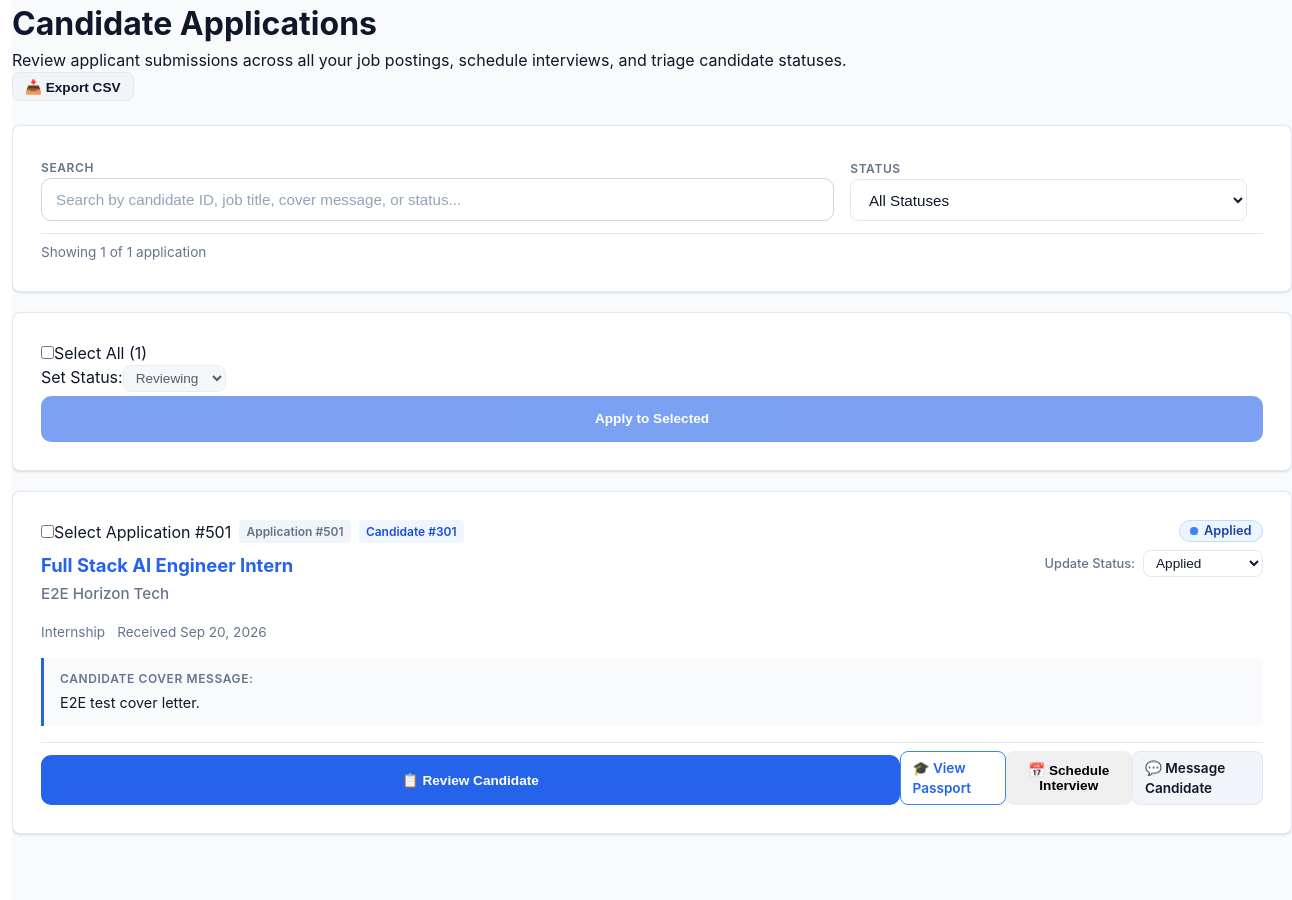
Test: CareerBridge End-to-End Integration Flow (Flow A + Flow B + Flow C) › FLOW B: Recruiter views received application and updates status to Accepted
The image size is (1292, 900).
Check: the link "Full Stack AI Engineer Intern" is shown, box x1=41 y1=554 x2=293 y2=576
Check: the text "E2E test cover letter." is shown, box x1=60 y1=694 x2=200 y2=711
# Recruiter transitions status to Accepted
Select "Accepted" in the dropdown named "Change status for Application #501" at (1203, 564), box x1=1143 y1=550 x2=1263 y2=577
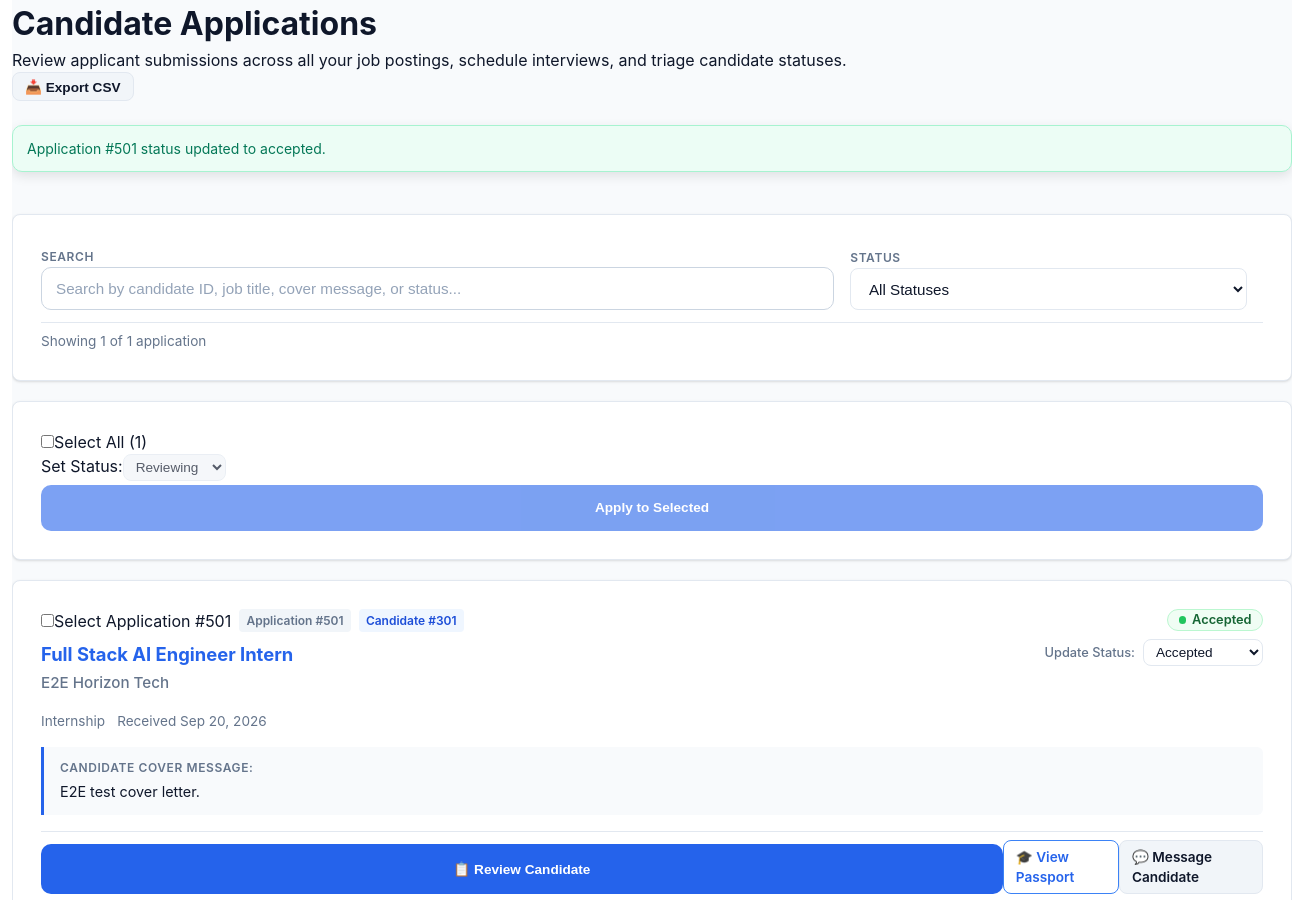
Check: the text "Application #501 status updated to accepted." is shown, box x1=12 y1=125 x2=1291 y2=172
